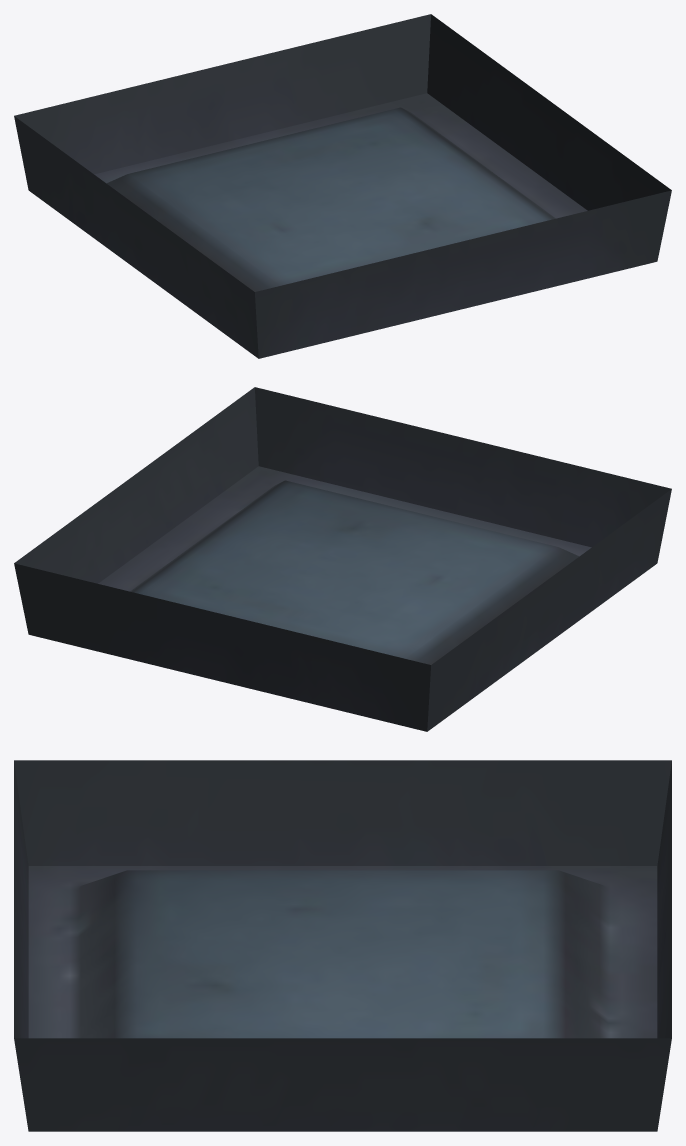
File: roof blue square3.FBX
3 renders of one model, top to bottom at view 1: azimuth 30°, elevation 25°; view 2: azimuth 150°, elevation 25°; view 3: azimuth 270°, elevation 25°, orthographic. The views are drawn at different scales.
Visible parts, largest first — view 1: roof blue square3; view 2: roof blue square3; view 3: roof blue square3.
Part boxes in pixels (<box>): roof blue square3: <box>14,14,671,358</box>; roof blue square3: <box>14,387,671,731</box>; roof blue square3: <box>14,760,671,1131</box>.
Size of the model in its own units: 511 by 85.49 by 511.
